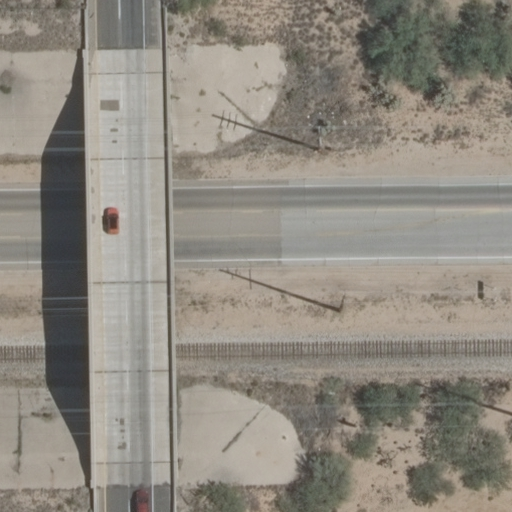DT: (335, 285, 352, 314), (313, 123, 326, 150)
